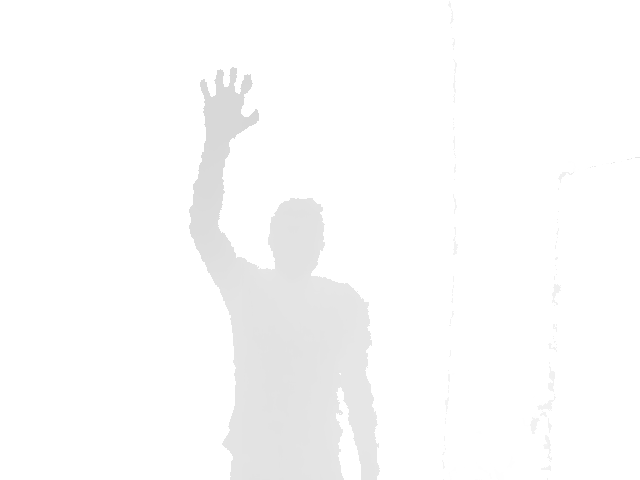hand: (198, 66, 261, 140)
head: (267, 197, 326, 275)
person: (188, 66, 382, 480)
